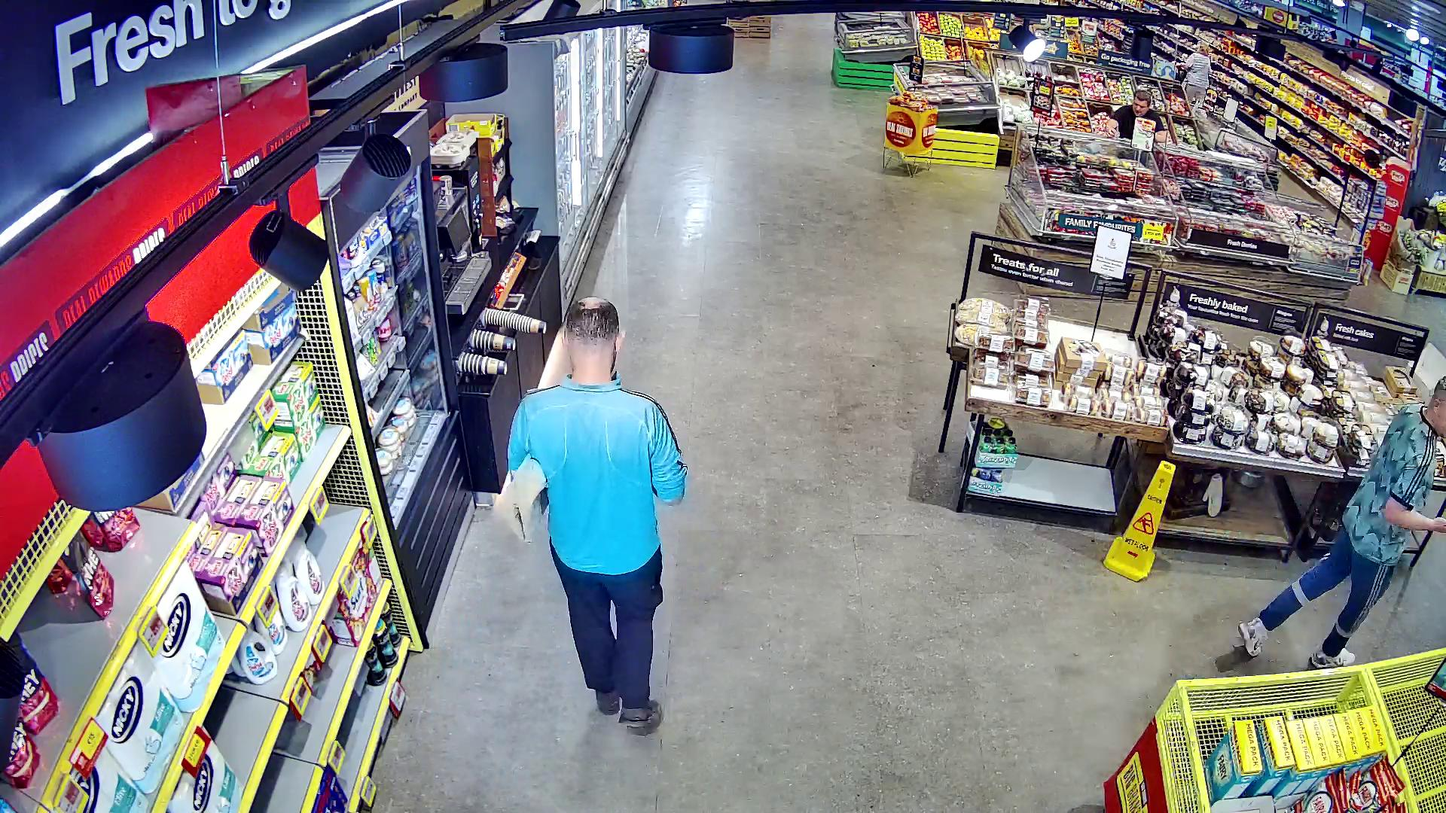empty-shopping-bags: (493, 457, 549, 542)
person: (508, 297, 688, 723)
person-with-empty-shopping-bag-s-: (494, 295, 685, 727)
